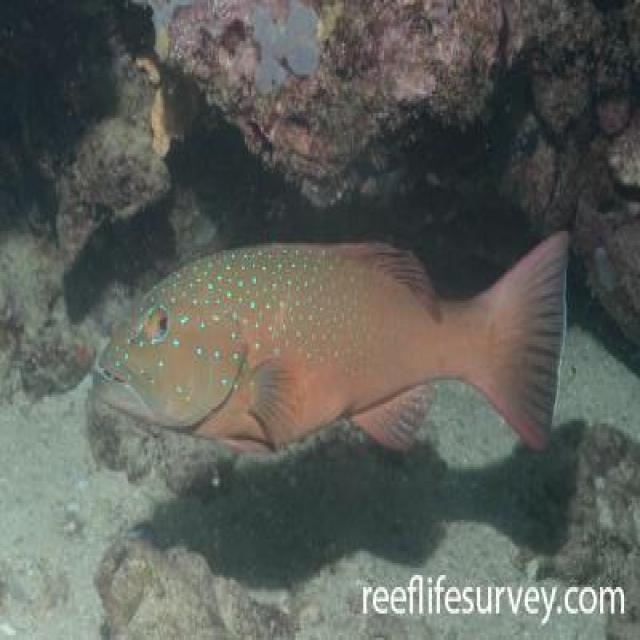Leopard coral grouper: (73, 196, 607, 471)
